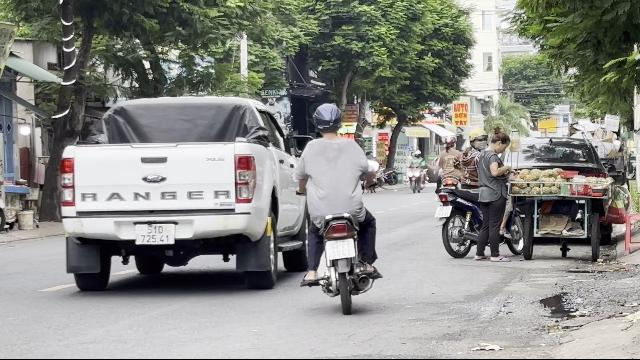helmet: (312, 102, 344, 136), (468, 127, 488, 149)
licenseplate: (326, 239, 354, 259), (434, 206, 450, 216)
motorcyclist: (291, 100, 383, 312)
